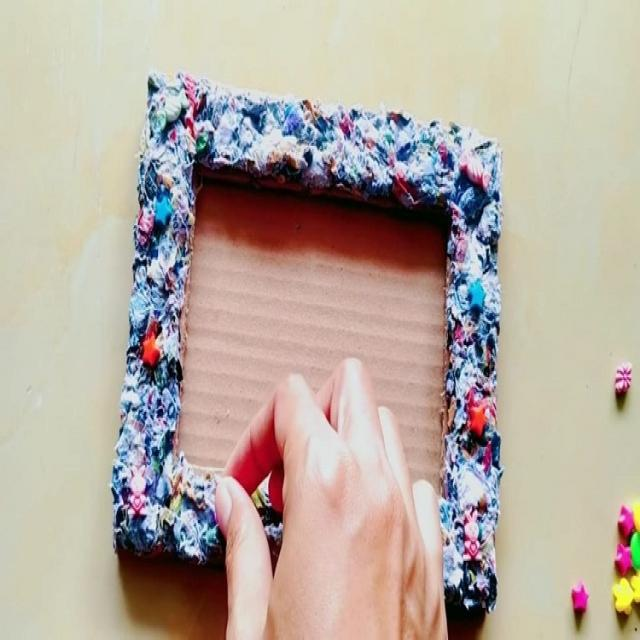Kertas: (85, 26, 564, 632)
